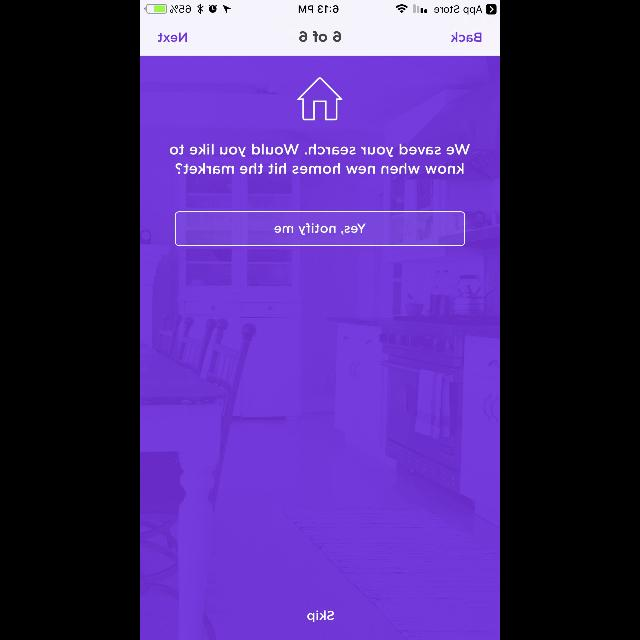backgroundimage: (140, 56, 500, 640)
icon: (297, 78, 343, 120)
text: (170, 144, 470, 174), (299, 32, 341, 42), (308, 610, 334, 622), (451, 33, 482, 43), (158, 33, 188, 43)
textbutton: (175, 212, 465, 246)
uppertaskbar: (140, 0, 500, 14)
